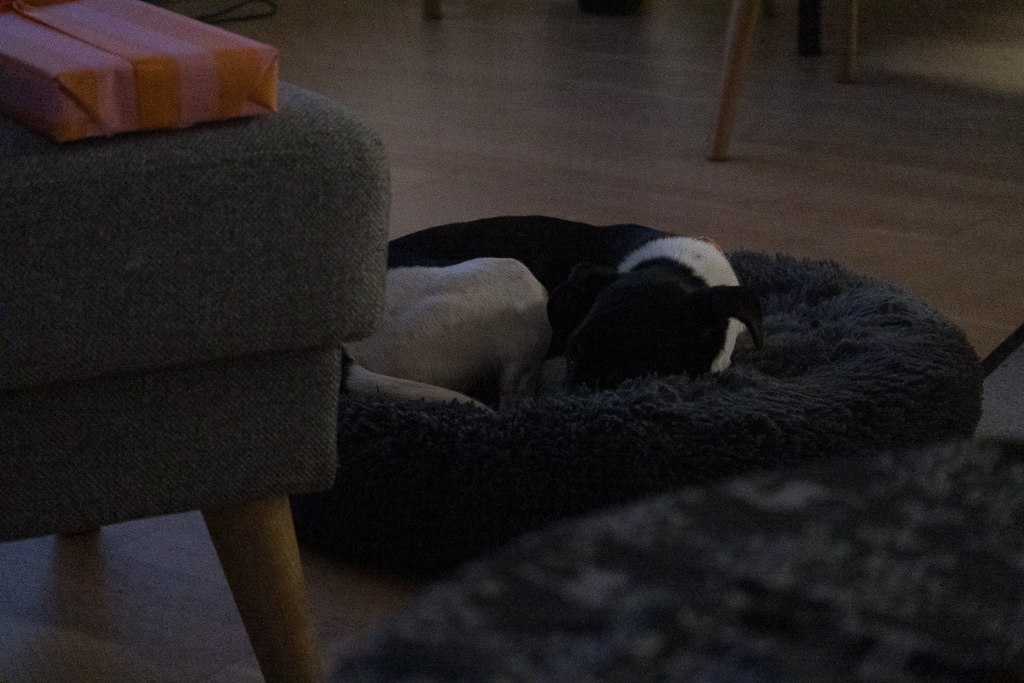Dog: (322, 207, 775, 437)
